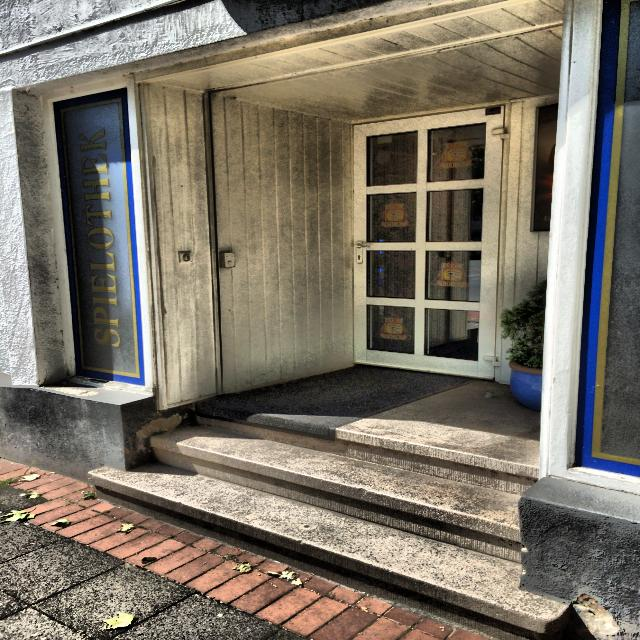escada: (79, 405, 539, 640)
